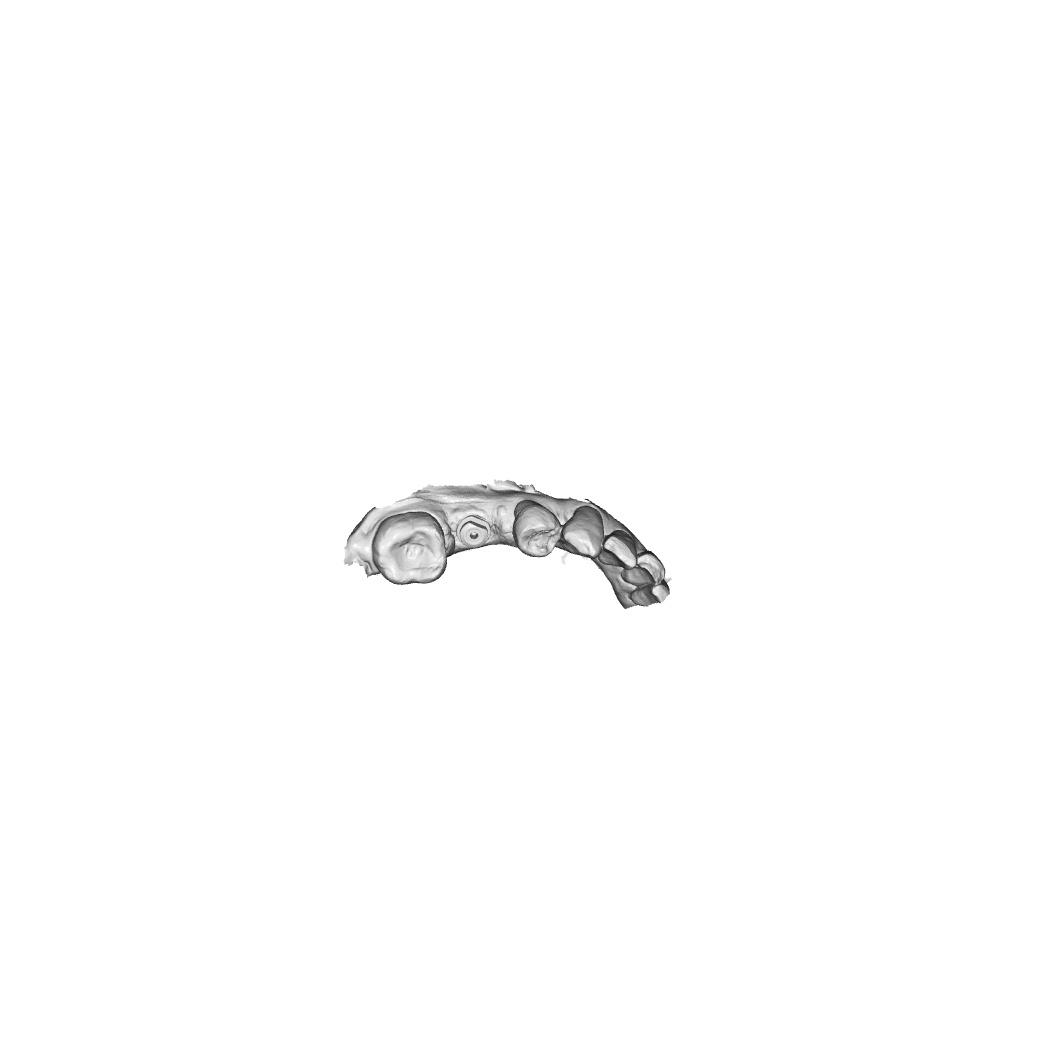canine: (560, 506, 605, 560)
implant: (454, 514, 492, 549)
incisor: (598, 529, 639, 571), (621, 549, 666, 587), (628, 578, 671, 608)
molar: (370, 510, 448, 586)
premolar: (511, 498, 562, 559)
